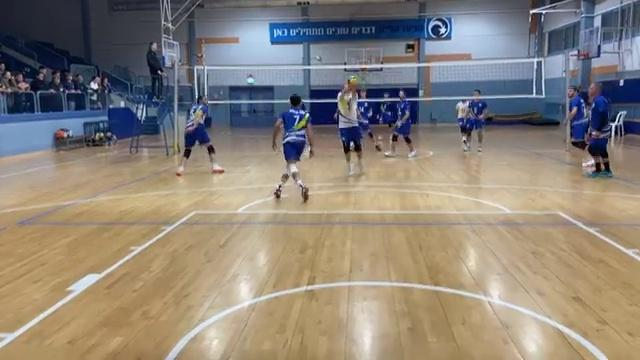ball: (346, 73, 362, 89)
